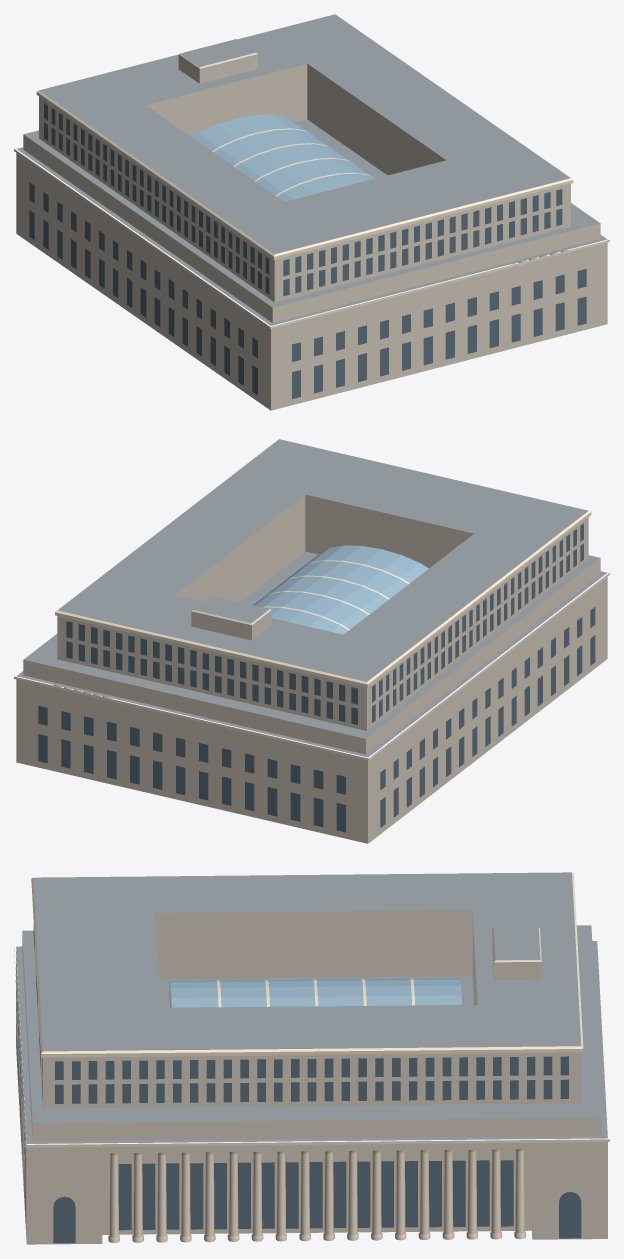
File: detail.glb
The picture shows the model from 3 angles, top to bottom: view 1: azimuth 30°, elevation 25°; view 2: azimuth 150°, elevation 25°; view 3: azimuth 270°, elevation 25°; orthographic projection. The views are drawn at different scales.
Visible parts, largest first — view 1: chicago-union-station; view 2: chicago-union-station; view 3: chicago-union-station.
Part boxes in pixels (x1,y1,x2,y2): chicago-union-station: (14,14,609,410); chicago-union-station: (14,439,609,843); chicago-union-station: (14,872,609,1244).
Bounding box in the file's own units: 96.11 × 42.7 × 118.
